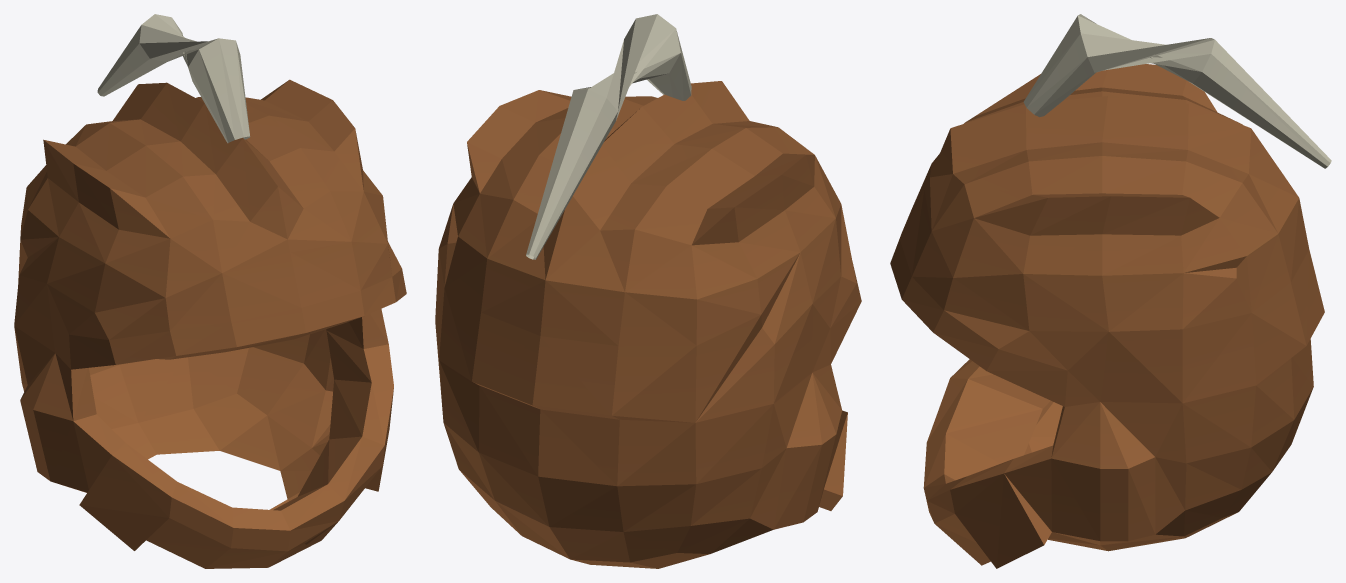
The model's file is rohan_casco_1.glb.
3 views of the same model, side by side, from view 1: azimuth 30°, elevation 25°; view 2: azimuth 150°, elevation 25°; view 3: azimuth 270°, elevation 25° (orthographic). The views are drawn at different scales.
Visible parts, largest first — view 1: rohan_casco_1; view 2: rohan_casco_1; view 3: rohan_casco_1.
Part boxes in pixels (x1=…): rohan_casco_1: x1=14, y1=14, x2=406, y2=568; rohan_casco_1: x1=435, y1=14, x2=861, y2=568; rohan_casco_1: x1=890, y1=14, x2=1331, y2=568.
Size of the model in its own units: 1.14 by 1.53 by 1.16.
Materials: 1 (1 with a texture image).
